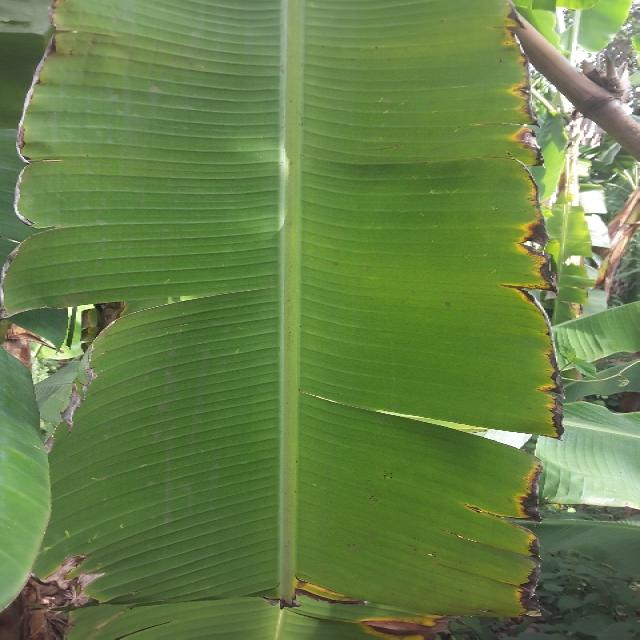Cordana: (433, 0, 585, 443), (448, 416, 564, 631), (271, 551, 490, 640), (28, 546, 116, 619), (0, 311, 78, 388)
